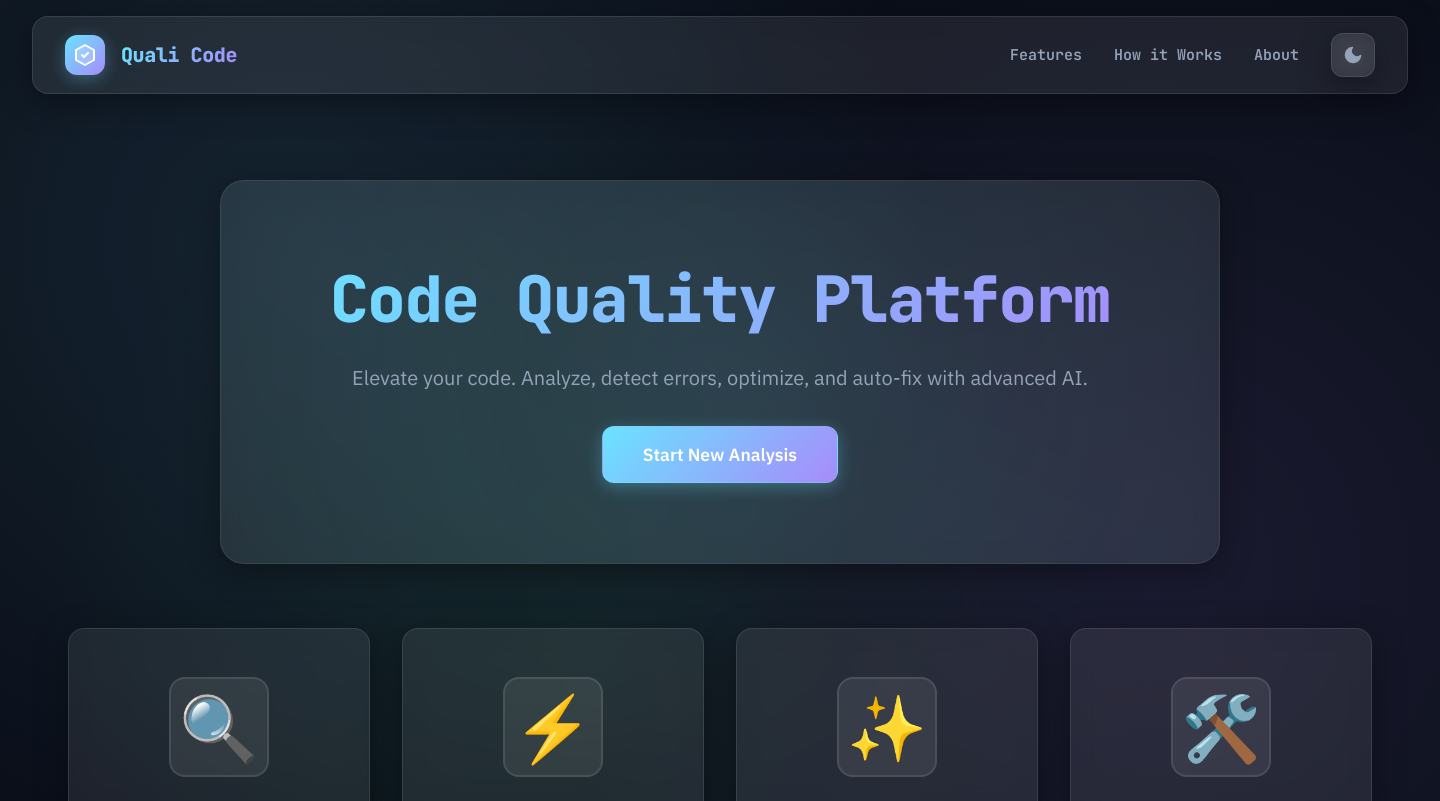
Test case: App Component › should navigate to how it works page
Step 1. Click the link "How it Works" → (1168,55), box [1114,37,1222,73]
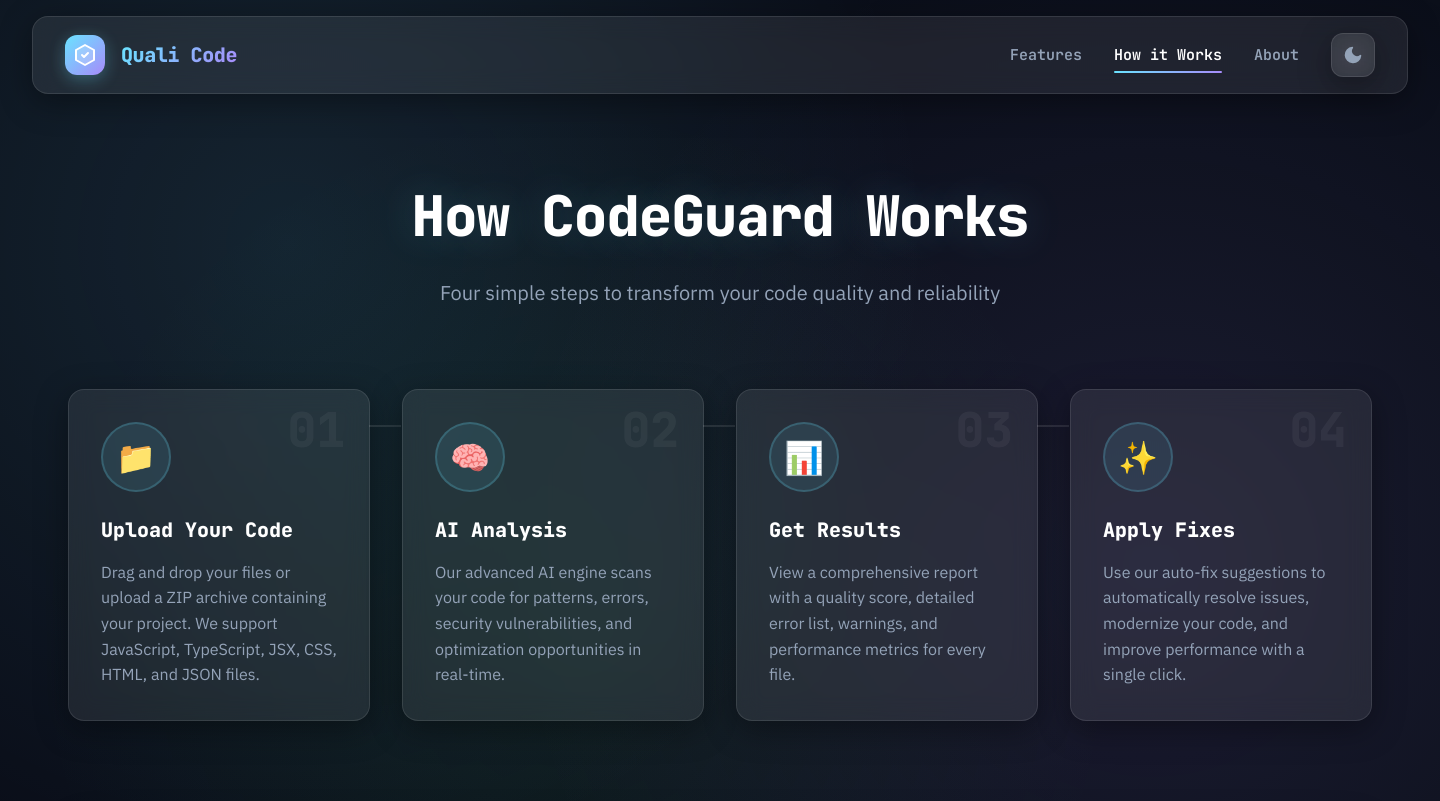
Result: the heading "Code Quality Platform" is gone
